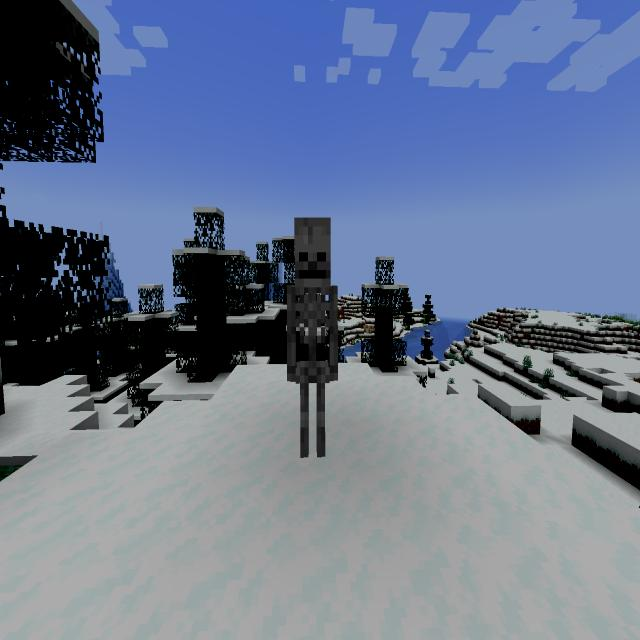Skeleton: (278, 201, 348, 473)
